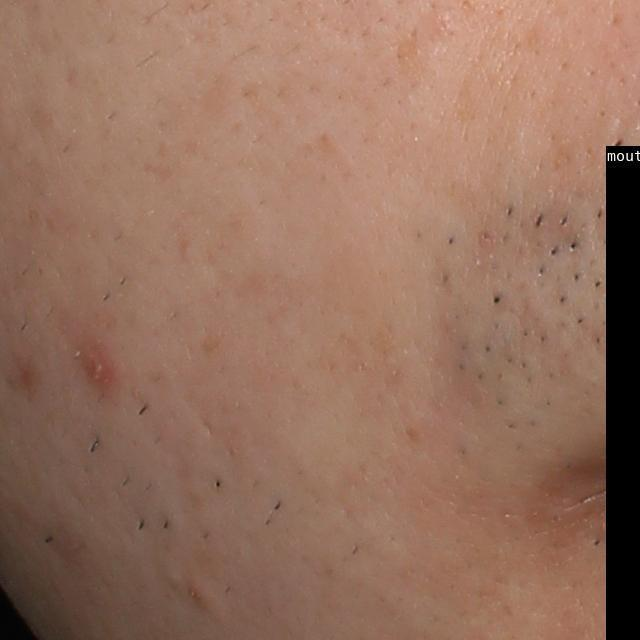papule: (182, 576, 215, 612)
